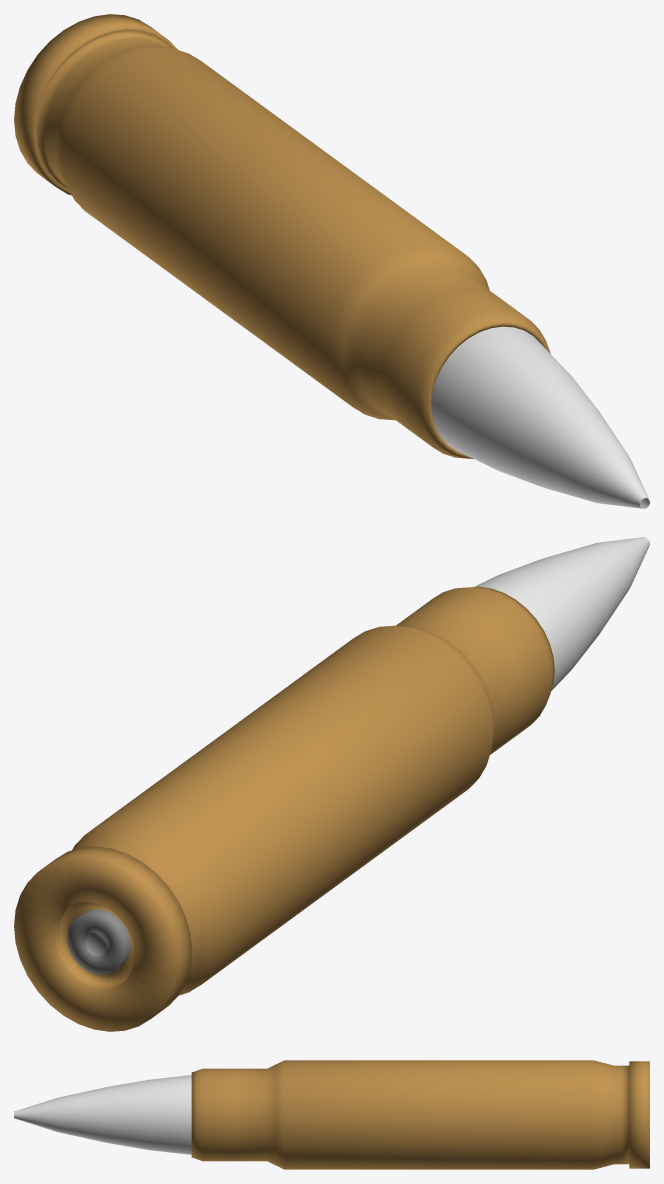
The model's file is kiritoPistolBullet.fbx.
3 views of the same model, one above another, from view 1: azimuth 30°, elevation 25°; view 2: azimuth 150°, elevation 25°; view 3: azimuth 270°, elevation 25° (orthographic). The views are drawn at different scales.
Parts seen in each view (by area): view 1: 5.7BulletCase, 5.7Bullet; view 2: 5.7BulletCase, 5.7Bullet; view 3: 5.7BulletCase, 5.7Bullet.
Part boxes in pixels (box(x1,y1,x2,y2)): 5.7BulletCase: box(14, 14, 550, 458); 5.7Bullet: box(431, 326, 649, 508); 5.7BulletCase: box(14, 586, 554, 1031); 5.7Bullet: box(474, 537, 649, 690); 5.7BulletCase: box(191, 1060, 649, 1169); 5.7Bullet: box(14, 1075, 191, 1154).
Size of the model in its own units: 0.0252 by 0.0252 by 0.1461.
